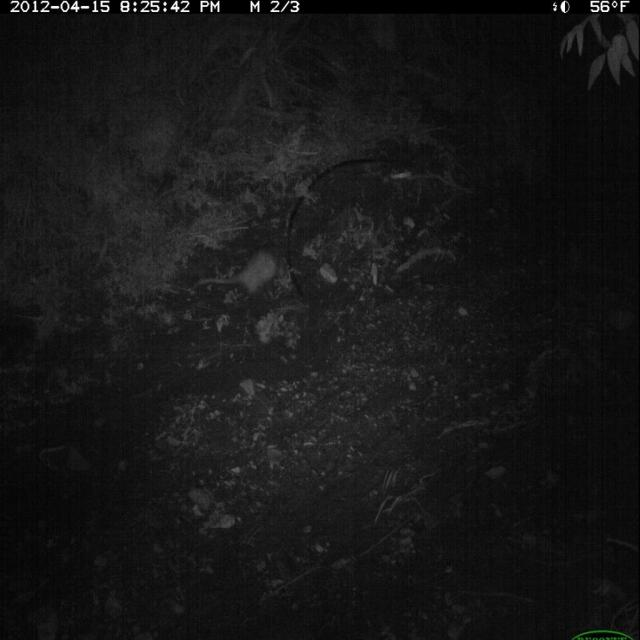opossum: (196, 240, 307, 322)
